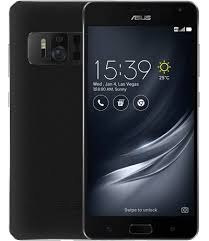asus: (5, 1, 201, 240), (76, 1, 201, 240)
